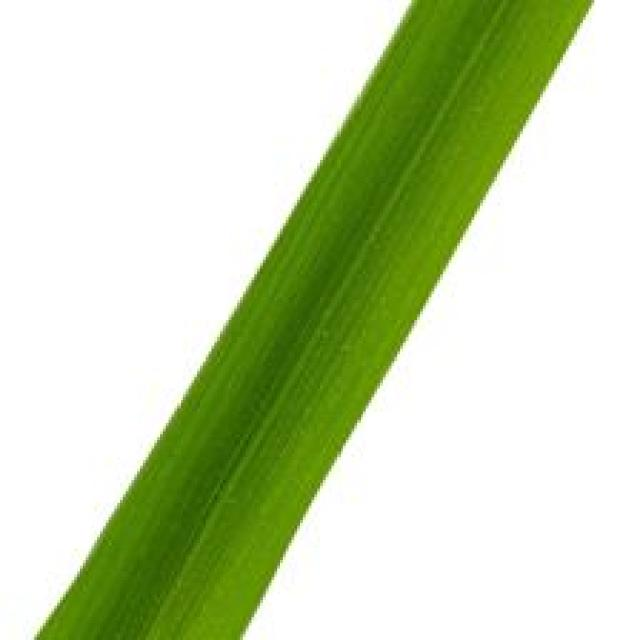Rice___Healthy_Rice_Plant: (35, 0, 598, 637)
